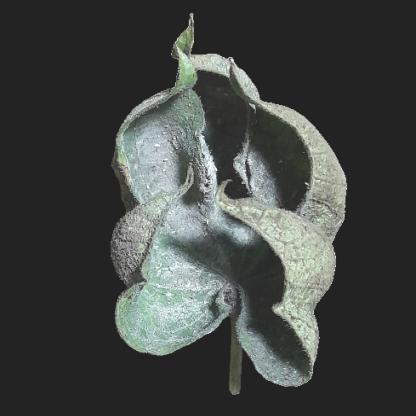curl_stage2: (171, 35, 224, 90), (251, 219, 303, 269), (291, 139, 332, 187)
sooty: (141, 131, 297, 297), (135, 291, 209, 338)
